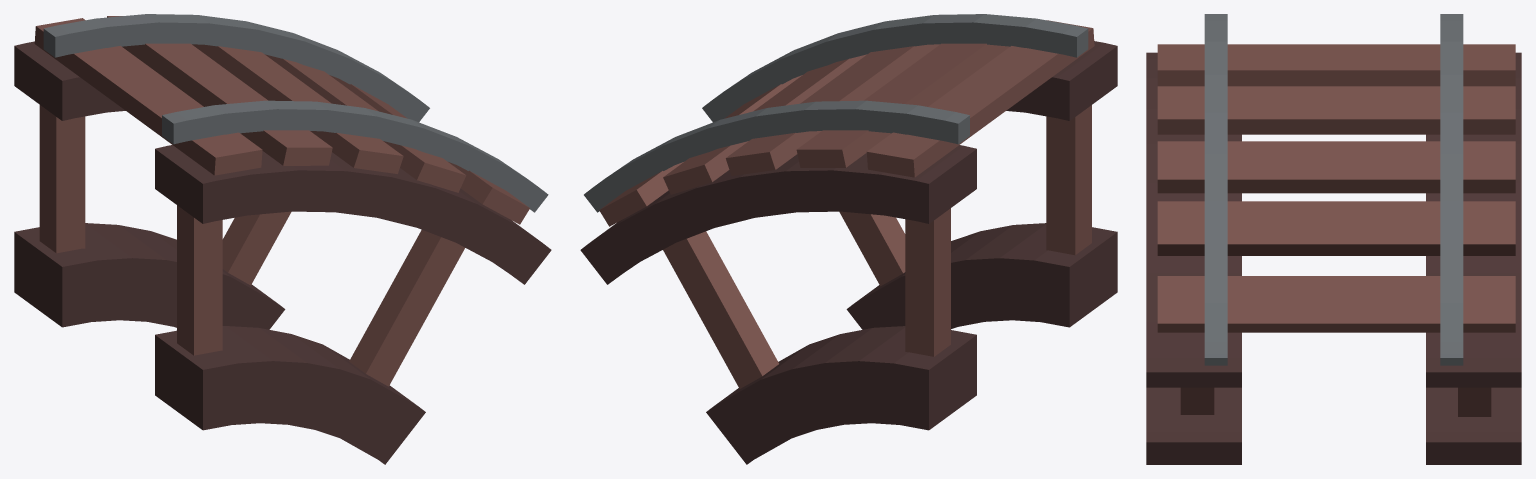
File: DarkRoseWoodMechSharp1_5GaugeFall1.fbx
3 renders of one model, left to right at view 1: azimuth 30°, elevation 25°; view 2: azimuth 150°, elevation 25°; view 3: azimuth 270°, elevation 25°, orthographic.
Parts seen in each view (by area): view 1: DarkRoseWoodMechSharp1_5GaugeFall1; view 2: DarkRoseWoodMechSharp1_5GaugeFall1; view 3: DarkRoseWoodMechSharp1_5GaugeFall1.
Boxes of the visible parts, x1=… form: DarkRoseWoodMechSharp1_5GaugeFall1: x1=14, y1=14, x2=551, y2=464; DarkRoseWoodMechSharp1_5GaugeFall1: x1=580, y1=14, x2=1117, y2=464; DarkRoseWoodMechSharp1_5GaugeFall1: x1=1146, y1=14, x2=1521, y2=464.
Size of the model in its own units: 304 by 282 by 265.
